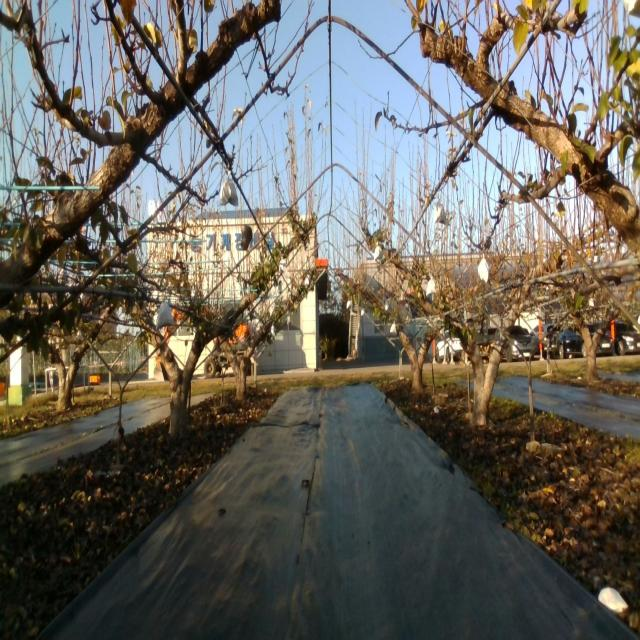pearbags: (218, 167, 239, 207), (155, 300, 173, 330), (476, 252, 488, 283), (434, 198, 446, 224), (426, 276, 436, 299)
